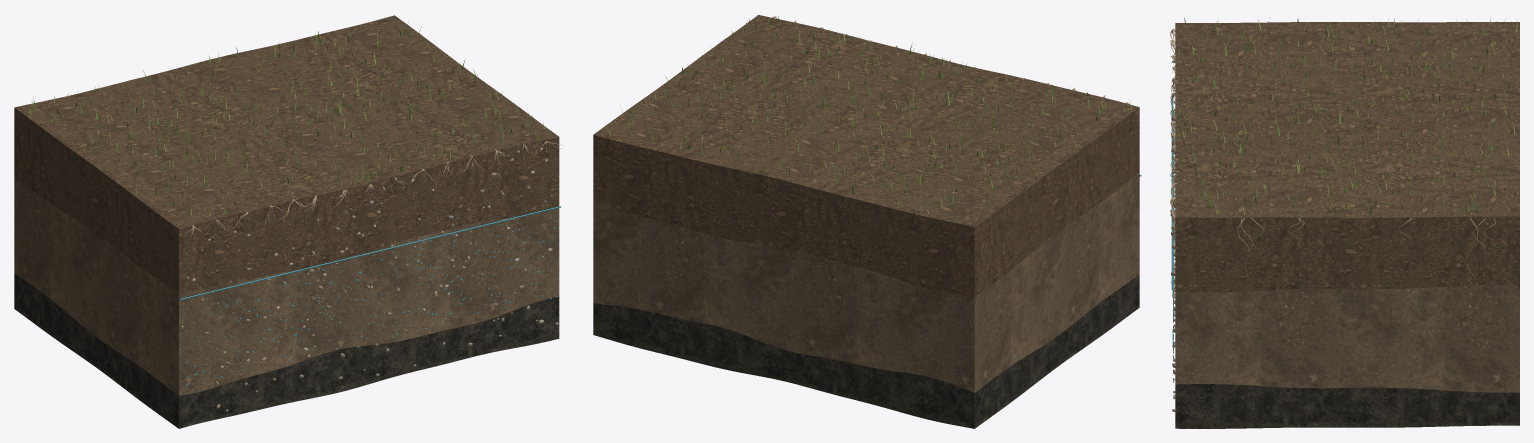
Rendered from groundwater-v2.glb.
The picture shows the model from 3 angles, left to right: view 1: azimuth 30°, elevation 25°; view 2: azimuth 150°, elevation 25°; view 3: azimuth 270°, elevation 25°; orthographic projection. The views are drawn at different scales.
Visible parts, largest first — view 1: Layer_Unsaturated, Layer_Saturated, Layer_LowPermeability, Surface_Grass, Soil_Aggregates, Water_In_Pores, Roots_Illustrative_Fibrous, Water_Table_Boundary; view 2: Layer_Unsaturated, Layer_Saturated, Layer_LowPermeability, Surface_Grass; view 3: Layer_Unsaturated, Layer_Saturated, Layer_LowPermeability, Surface_Grass, Roots_Illustrative_Fibrous, Soil_Aggregates, Roots_Right_Section, Water_Table_Boundary.
Boxes of the visible parts, x1,y1,x2,y2 form: Layer_Unsaturated: (14, 15, 559, 294); Layer_Saturated: (14, 177, 559, 395); Layer_LowPermeability: (14, 273, 559, 428); Surface_Grass: (29, 17, 544, 223); Soil_Aggregates: (181, 147, 558, 411); Water_In_Pores: (184, 217, 557, 388); Roots_Illustrative_Fibrous: (185, 141, 562, 250); Water_Table_Boundary: (180, 206, 560, 300); Layer_Unsaturated: (593, 15, 1139, 296); Layer_Saturated: (593, 173, 1139, 392); Layer_LowPermeability: (593, 275, 1139, 428); Surface_Grass: (609, 16, 1131, 221); Layer_Unsaturated: (1175, 22, 1519, 292); Layer_Saturated: (1175, 284, 1519, 392); Layer_LowPermeability: (1175, 384, 1519, 428); Surface_Grass: (1176, 17, 1517, 216); Roots_Illustrative_Fibrous: (1170, 29, 1178, 229); Soil_Aggregates: (1170, 55, 1175, 411); Roots_Right_Section: (1237, 218, 1495, 283); Water_Table_Boundary: (1171, 96, 1173, 290).
Size of the model in its own units: 4.03 by 2.17 by 3.05.
11 materials, 3 textured.
